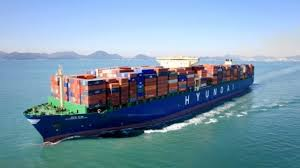ship: (18, 51, 261, 144)
